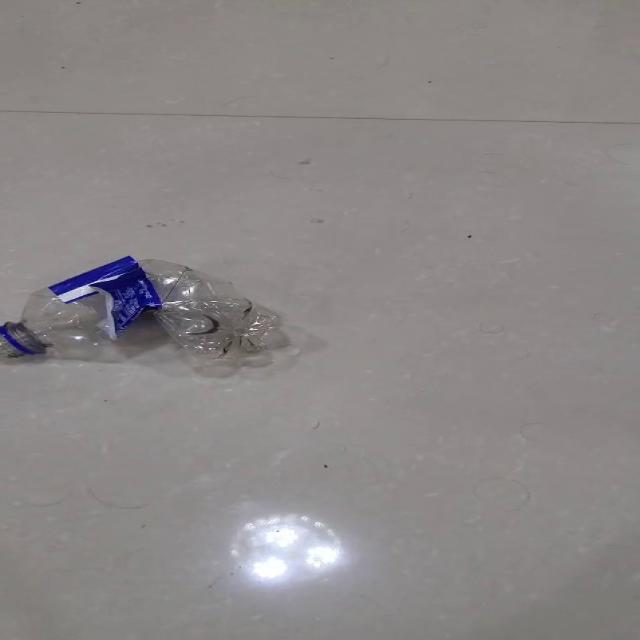plastic: (2, 254, 290, 364)
